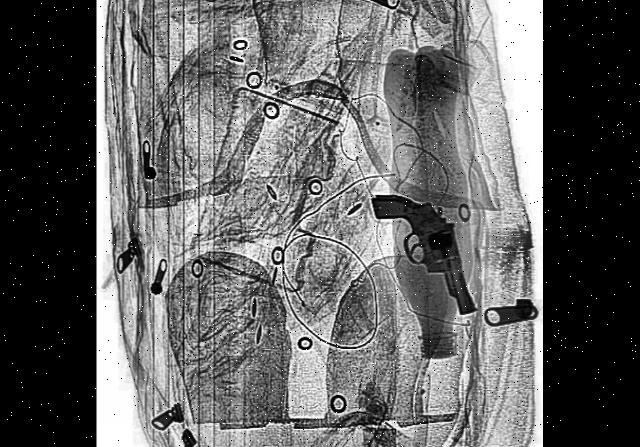Gun: (369, 143, 494, 348)
